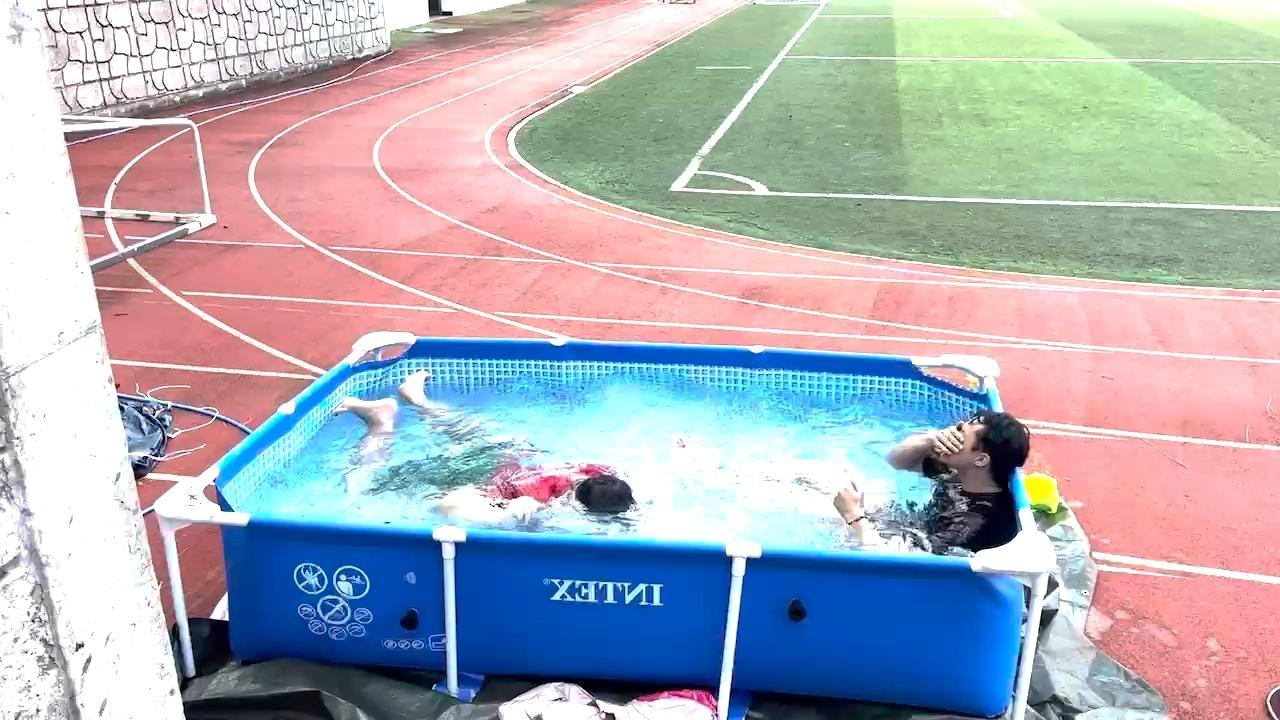Drowning: (304, 360, 651, 520)
